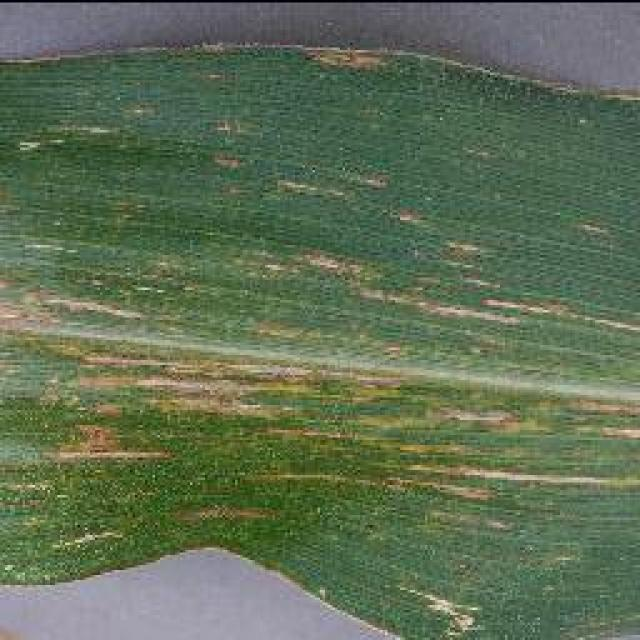Corn_Grey_Leaf_Spot: (67, 112, 624, 554)
